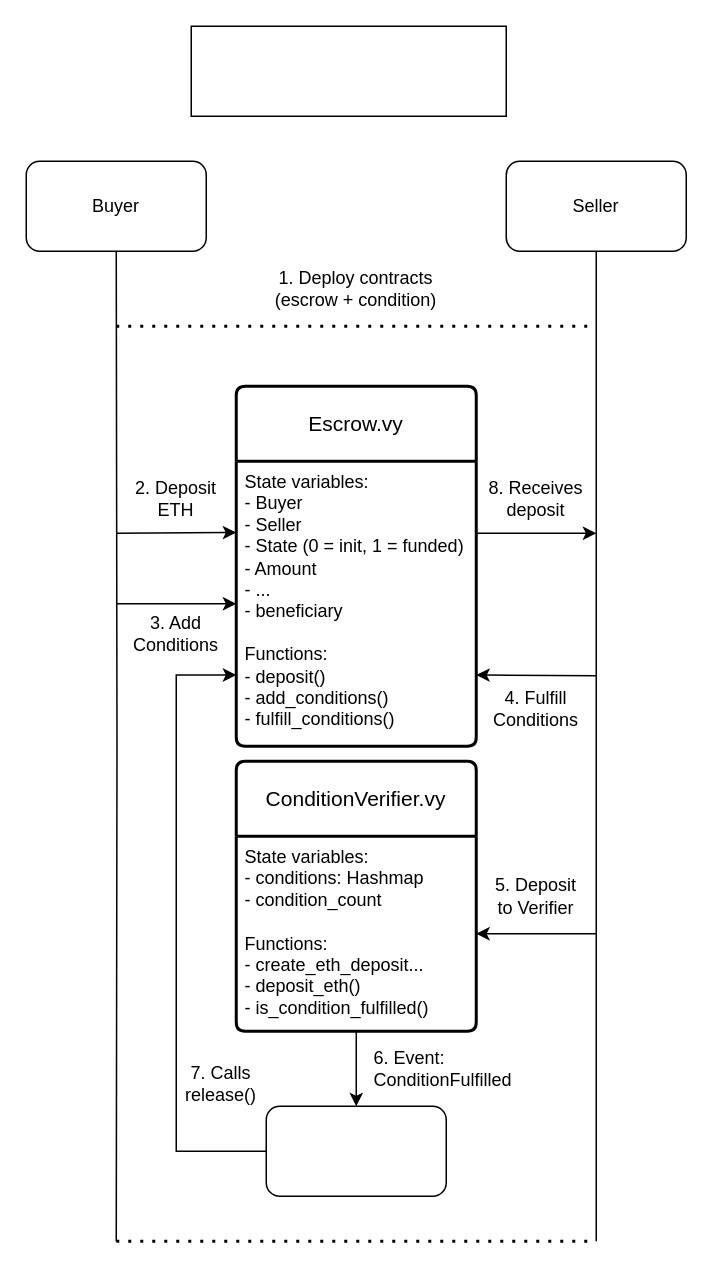
Some shapes in this 713 by 1271 pixel diagram are drawn without their labels. Here are the shapes that lost their labels. From the top down, the centre of each, then its label:
At [348,70]: "Escrow Automation System".
At [355,1150]: "Keeper Bot Listening...".
